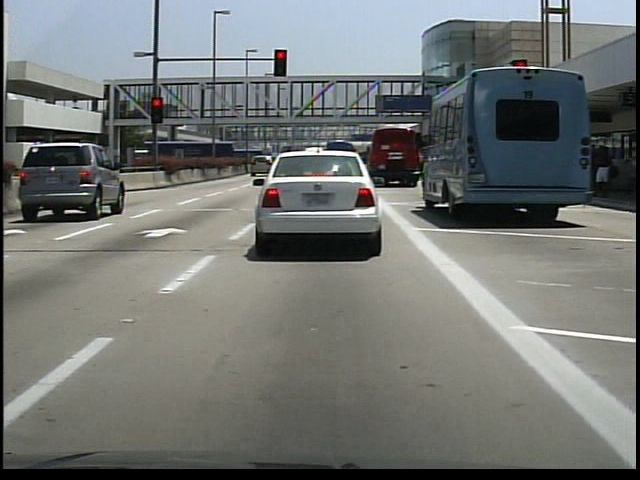person: (592, 142, 613, 196)
